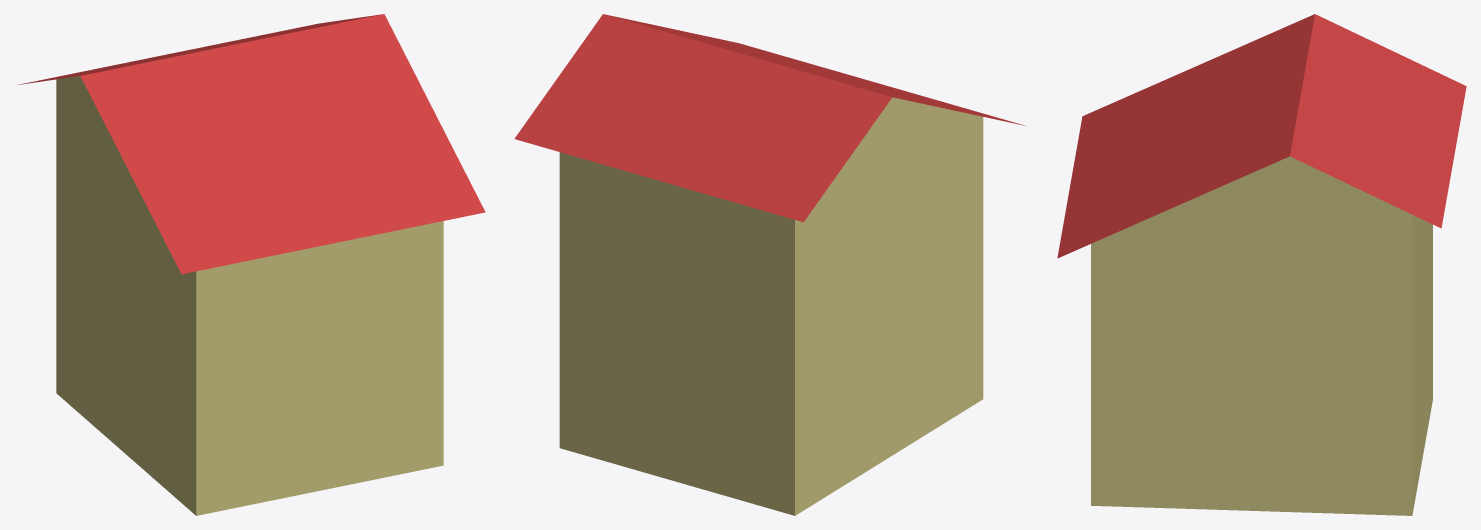
3 renders of one model, left to right at view 1: azimuth 30°, elevation 25°; view 2: azimuth 150°, elevation 25°; view 3: azimuth 270°, elevation 25°, orthographic. The views are drawn at different scales.
Size of the model in its own units: 8.69 by 9.73 by 9.68.
